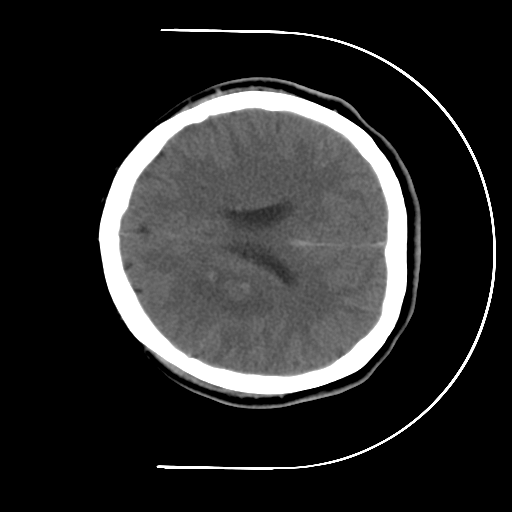a: (176, 244, 294, 330)
